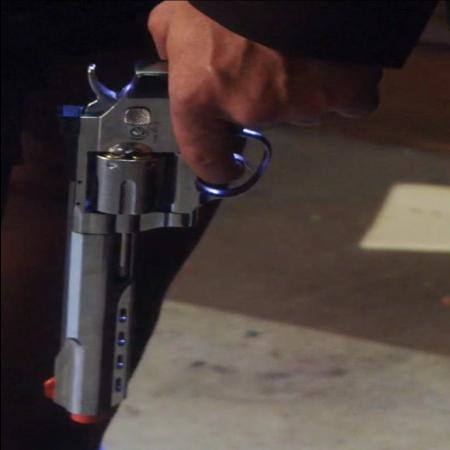Pistol: (42, 59, 270, 425)
